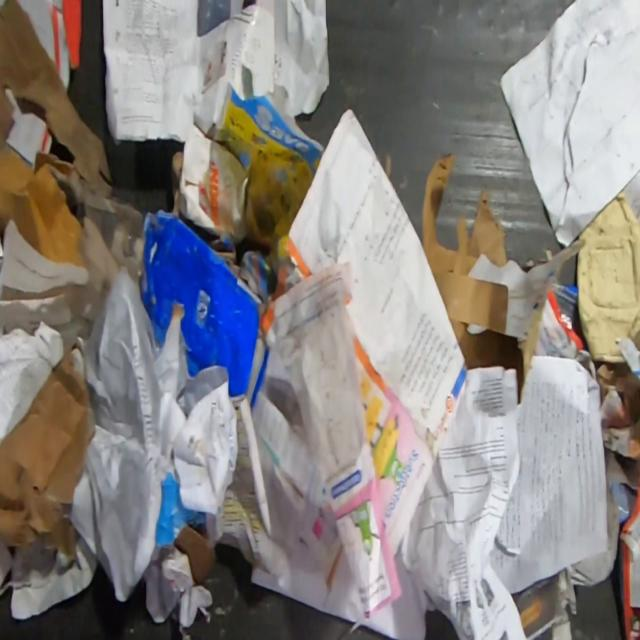cardboard: (421, 153, 544, 399), (138, 208, 272, 409), (0, 352, 95, 560), (0, 218, 104, 353), (576, 185, 640, 367), (0, 138, 87, 268), (170, 119, 251, 247), (155, 468, 207, 547), (174, 524, 216, 584)
